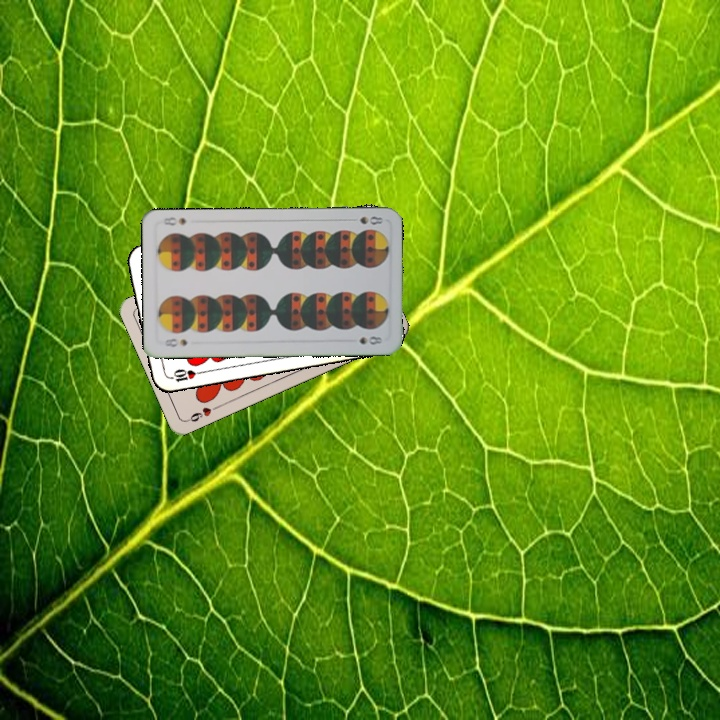H10: (164, 365, 205, 385)
H9: (183, 402, 221, 425)
S8: (345, 212, 386, 227), (159, 334, 190, 350)
